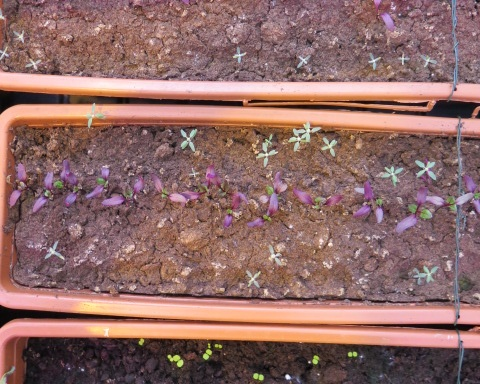crop: (395, 187, 434, 238), (102, 176, 147, 211), (355, 180, 384, 229), (291, 186, 345, 212), (182, 163, 217, 202), (246, 193, 279, 231), (148, 174, 185, 207), (33, 172, 58, 216), (8, 162, 31, 209), (457, 176, 480, 216), (263, 171, 286, 209), (368, 1, 396, 32), (86, 166, 111, 199), (224, 191, 243, 230), (424, 194, 461, 214), (66, 171, 81, 207), (54, 160, 69, 194)
weed: (38, 238, 67, 261), (177, 125, 199, 153), (413, 159, 438, 182), (381, 164, 405, 187), (287, 129, 310, 152), (256, 142, 277, 167), (265, 243, 285, 269), (82, 103, 102, 128), (298, 122, 321, 143), (320, 135, 339, 158), (244, 268, 263, 290), (229, 44, 249, 64), (366, 51, 383, 72), (419, 52, 439, 69), (23, 55, 43, 71), (294, 52, 312, 69), (10, 27, 27, 44), (423, 266, 438, 284), (394, 51, 411, 66), (412, 266, 426, 284), (174, 353, 185, 370), (201, 347, 213, 360), (250, 372, 266, 381), (263, 132, 272, 147), (310, 354, 321, 365), (345, 350, 360, 358), (1, 47, 10, 60), (189, 168, 200, 177), (136, 337, 146, 346), (213, 342, 224, 349), (167, 354, 173, 362)
